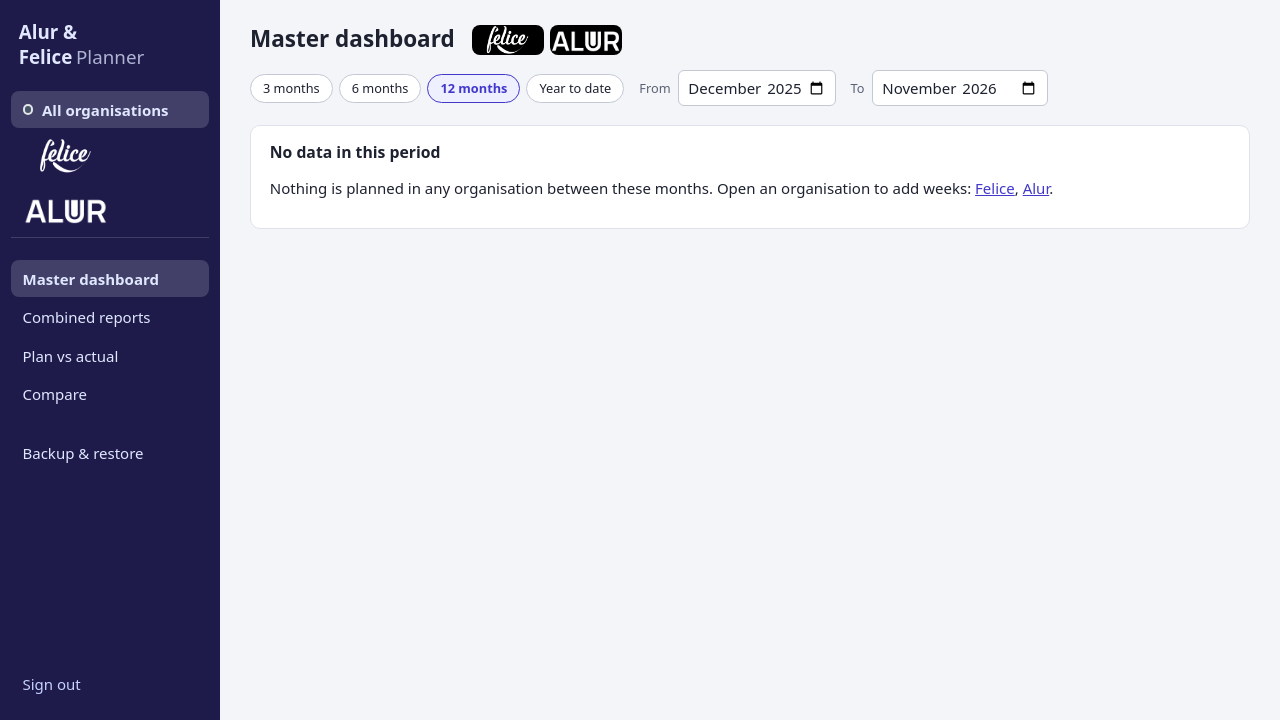
the sidebar › moves between master and organisation pages
Expected: the heading "Master dashboard" is shown, x1=250 y1=22 x2=622 y2=55
What coordinates should you click on to do the following:
click the 1st link named "Felice"
I would click on:
 (66, 157)
Its box is x1=22 y1=138 x2=108 y2=176.
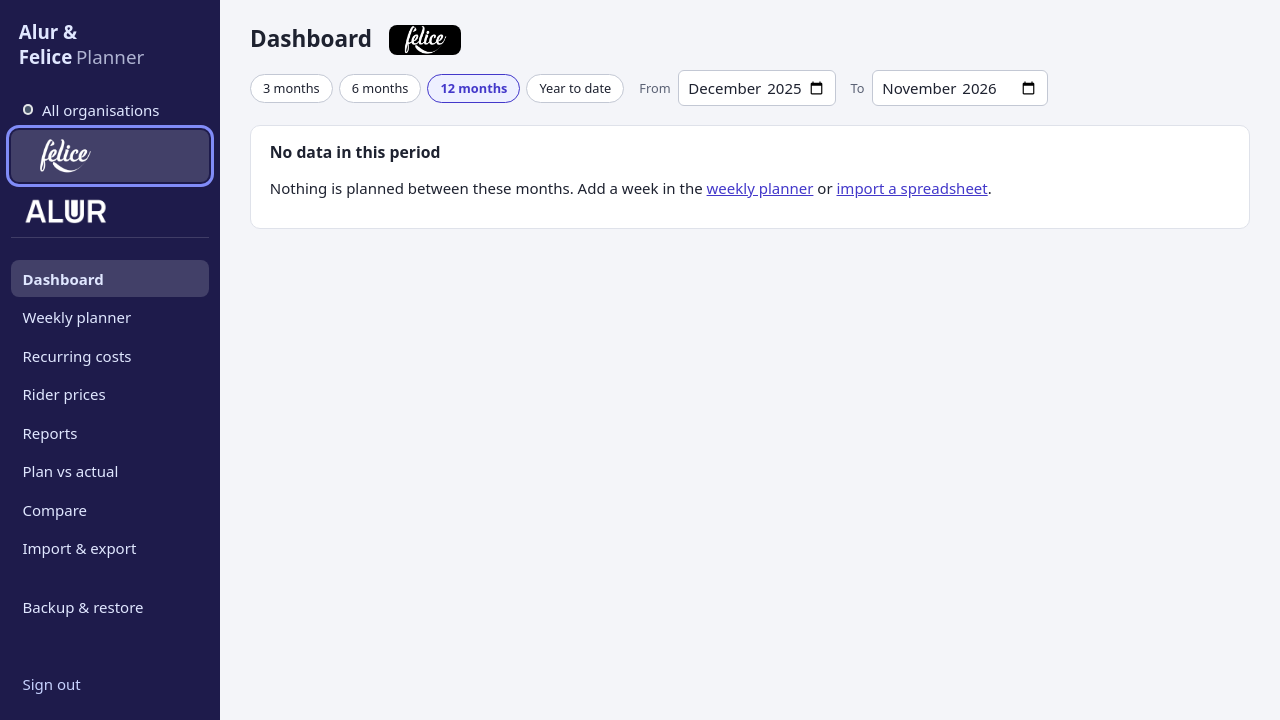
Expected: the heading "Dashboard" is shown, x1=250 y1=22 x2=461 y2=55
Expected: the navigation bar named "Felice pages" is shown, x1=11 y1=260 x2=209 y2=566
What coordinates should you click on to do the following:
click the link "All organisations"
I would click on:
 (91, 110)
Its box is x1=22 y1=100 x2=160 y2=120.
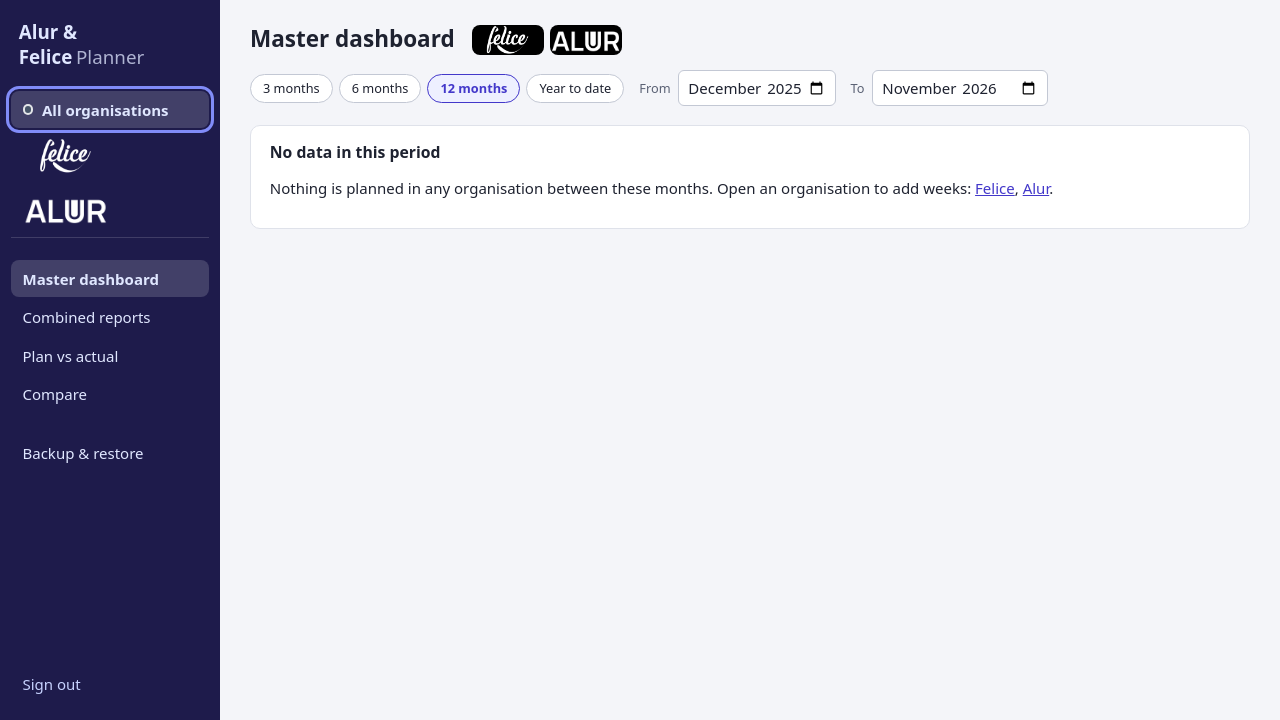
Expected: the navigation bar named "Master pages" is shown, x1=11 y1=260 x2=209 y2=412
